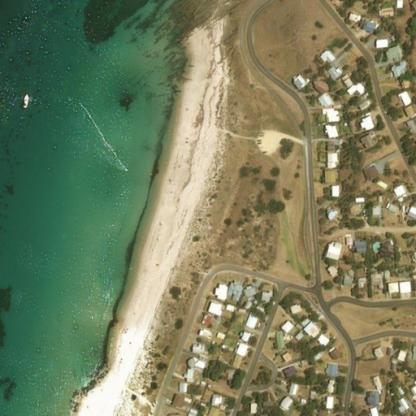ship: (18, 89, 32, 112)
